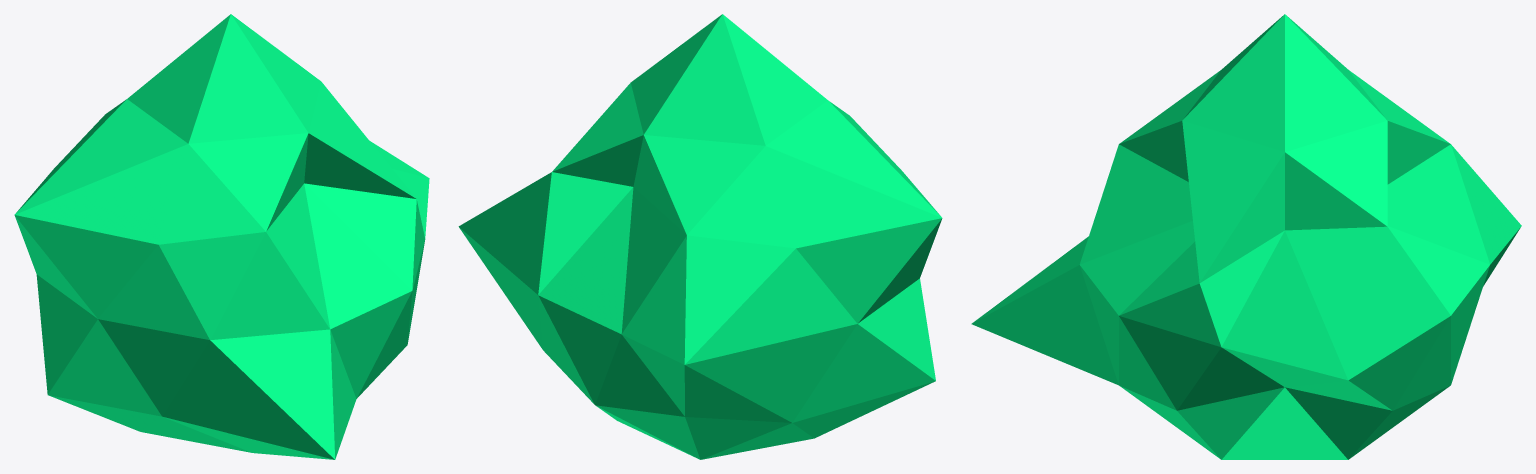
Rendered from energy.fbx.
3 views of the same model, side by side, from view 1: azimuth 30°, elevation 25°; view 2: azimuth 150°, elevation 25°; view 3: azimuth 270°, elevation 25° (orthographic). The views are drawn at different scales.
Parts seen in each view (by area): view 1: Icosphere; view 2: Icosphere; view 3: Icosphere.
Part boxes in pixels (x1,y1,x2,y2): Icosphere: [14, 14, 429, 459]; Icosphere: [458, 14, 942, 459]; Icosphere: [971, 14, 1521, 459].
Size of the model in its own units: 259 by 235 by 268.
1 material, 1 textured.
